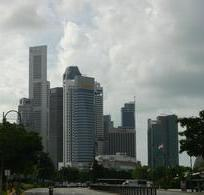building: (19, 44, 137, 179), (146, 113, 179, 178)
